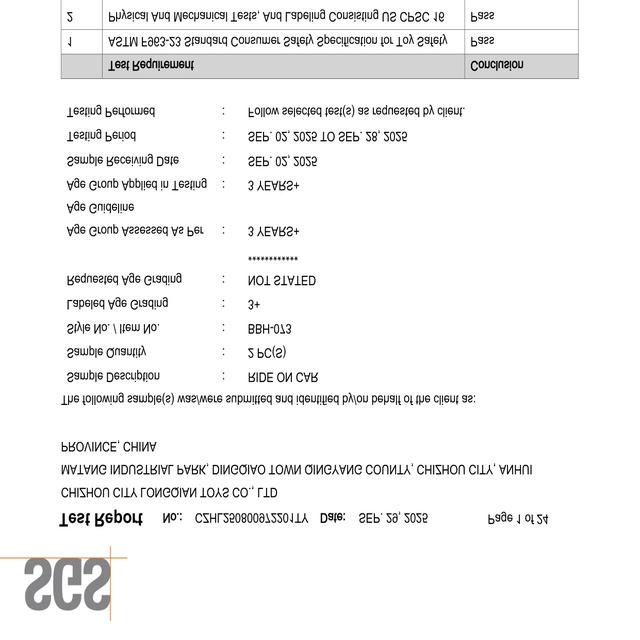sgs: (24, 558, 111, 610)
